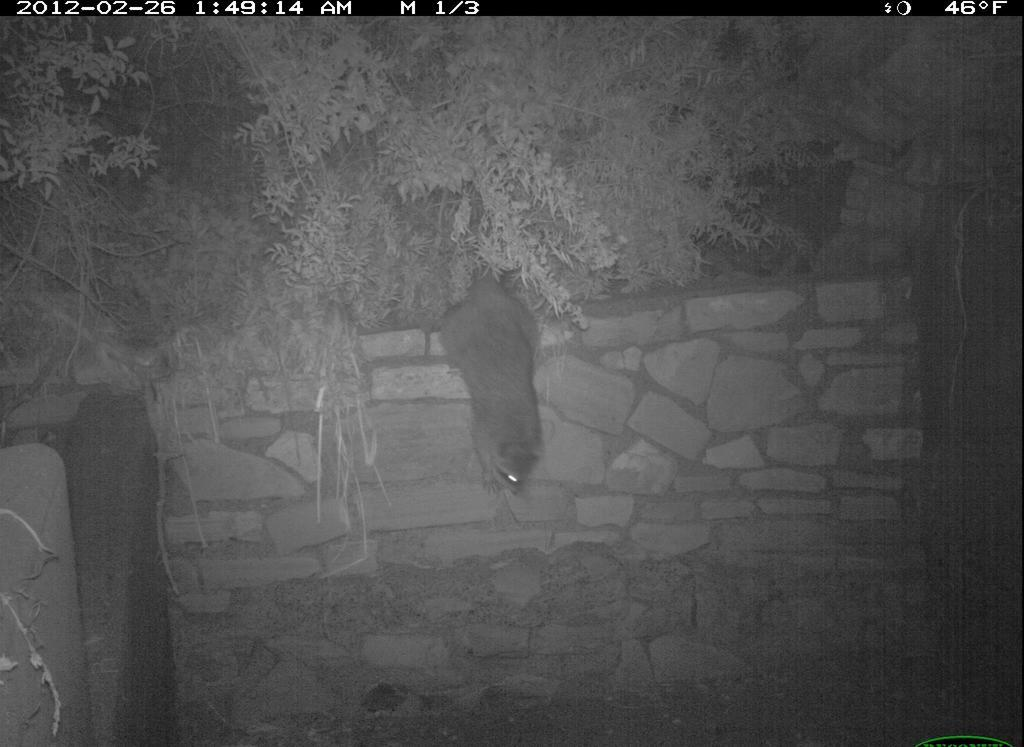raccoon: (418, 253, 572, 495)
